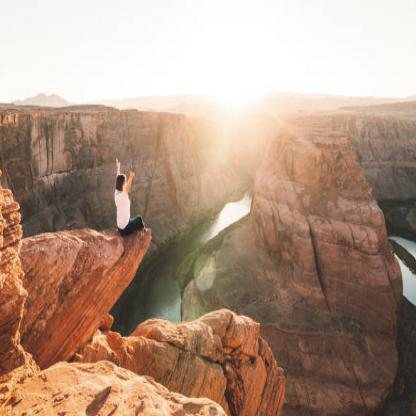Sedimentary_Sandstone: (137, 322, 275, 415), (11, 235, 115, 357), (4, 368, 124, 415)
